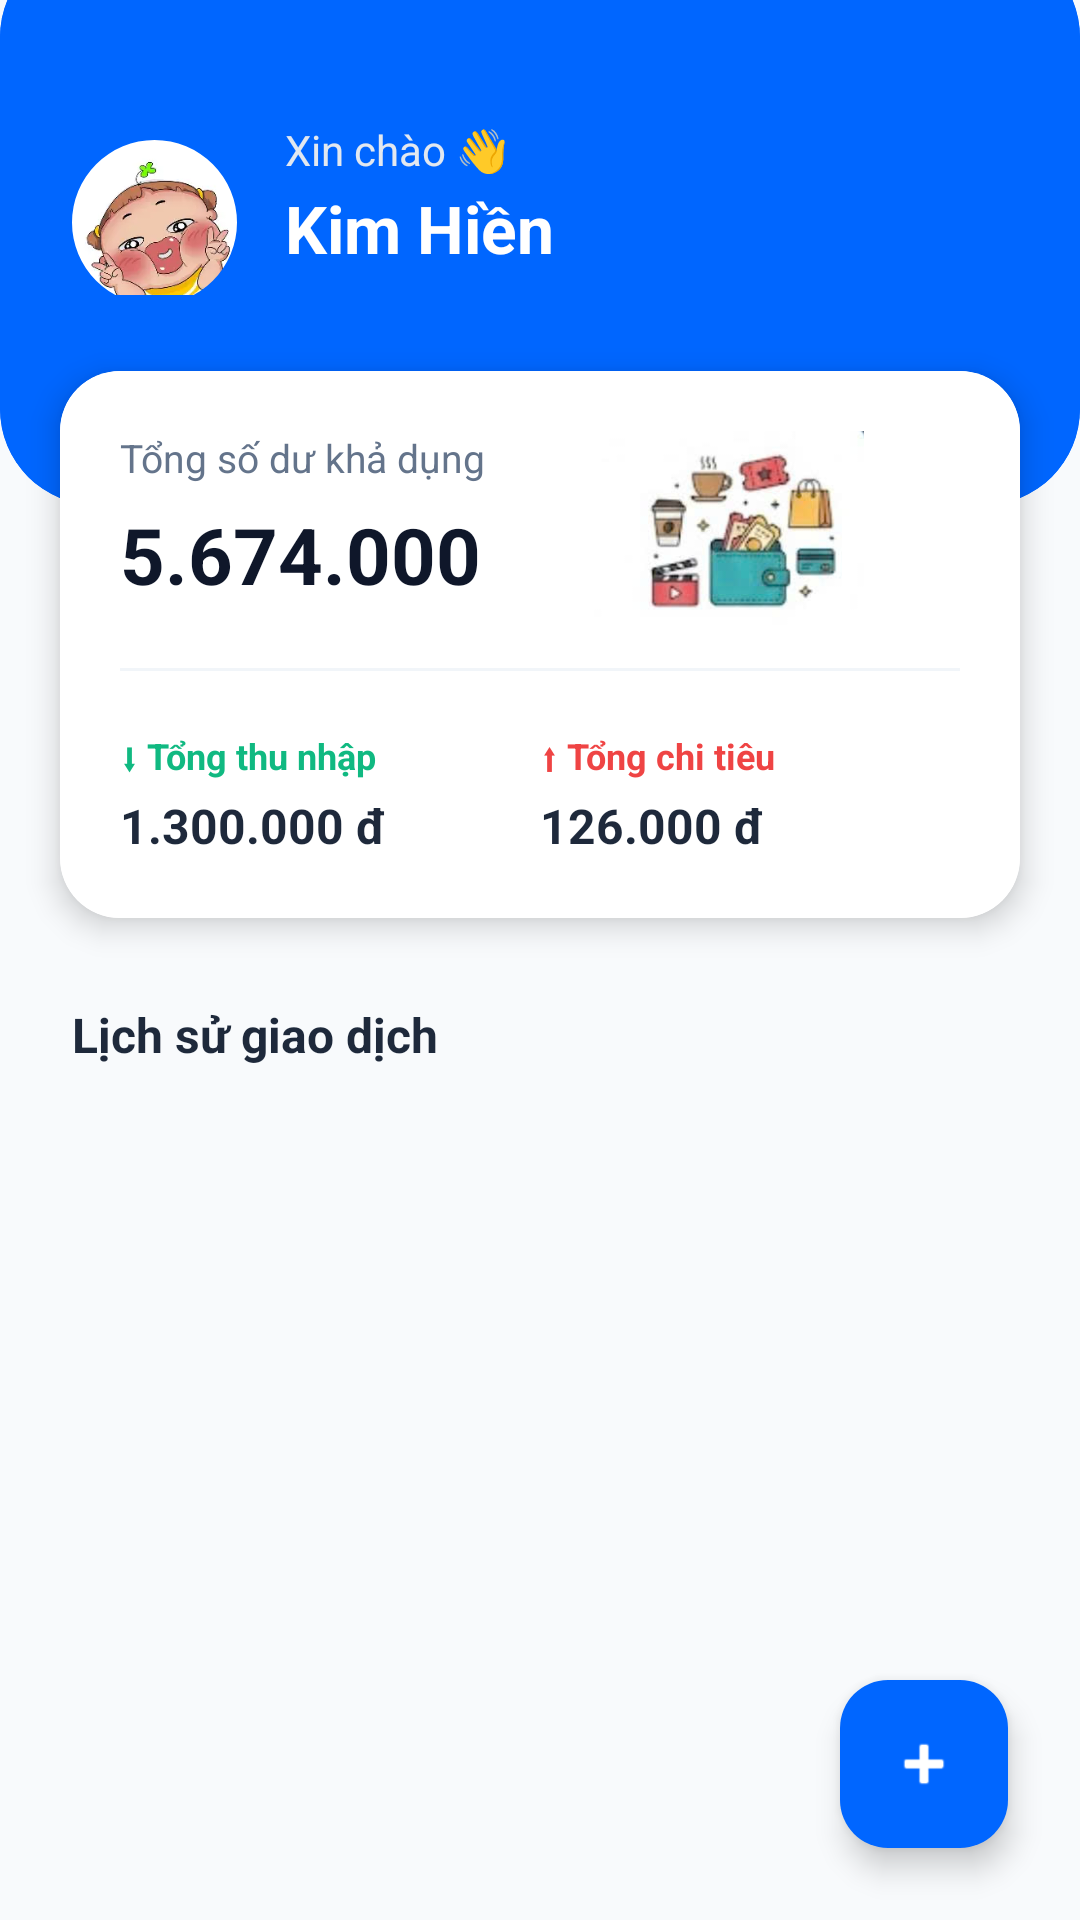

Locate icon controls on the screen. Image size 1080 × 1920, boxes as BBox(x1, y1, x2, y2).
add: BBox(840, 1680, 1008, 1848)
Personal Expense Graphic: BBox(650, 431, 864, 608)
